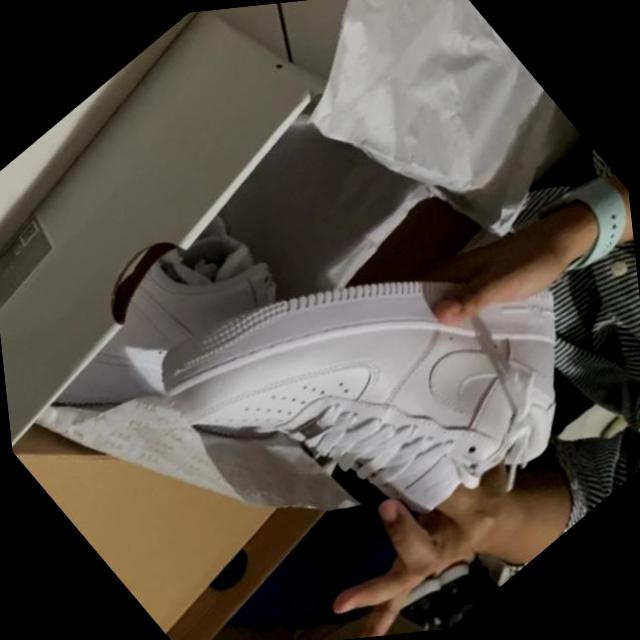nike_original_airforce: (124, 119, 640, 638)
